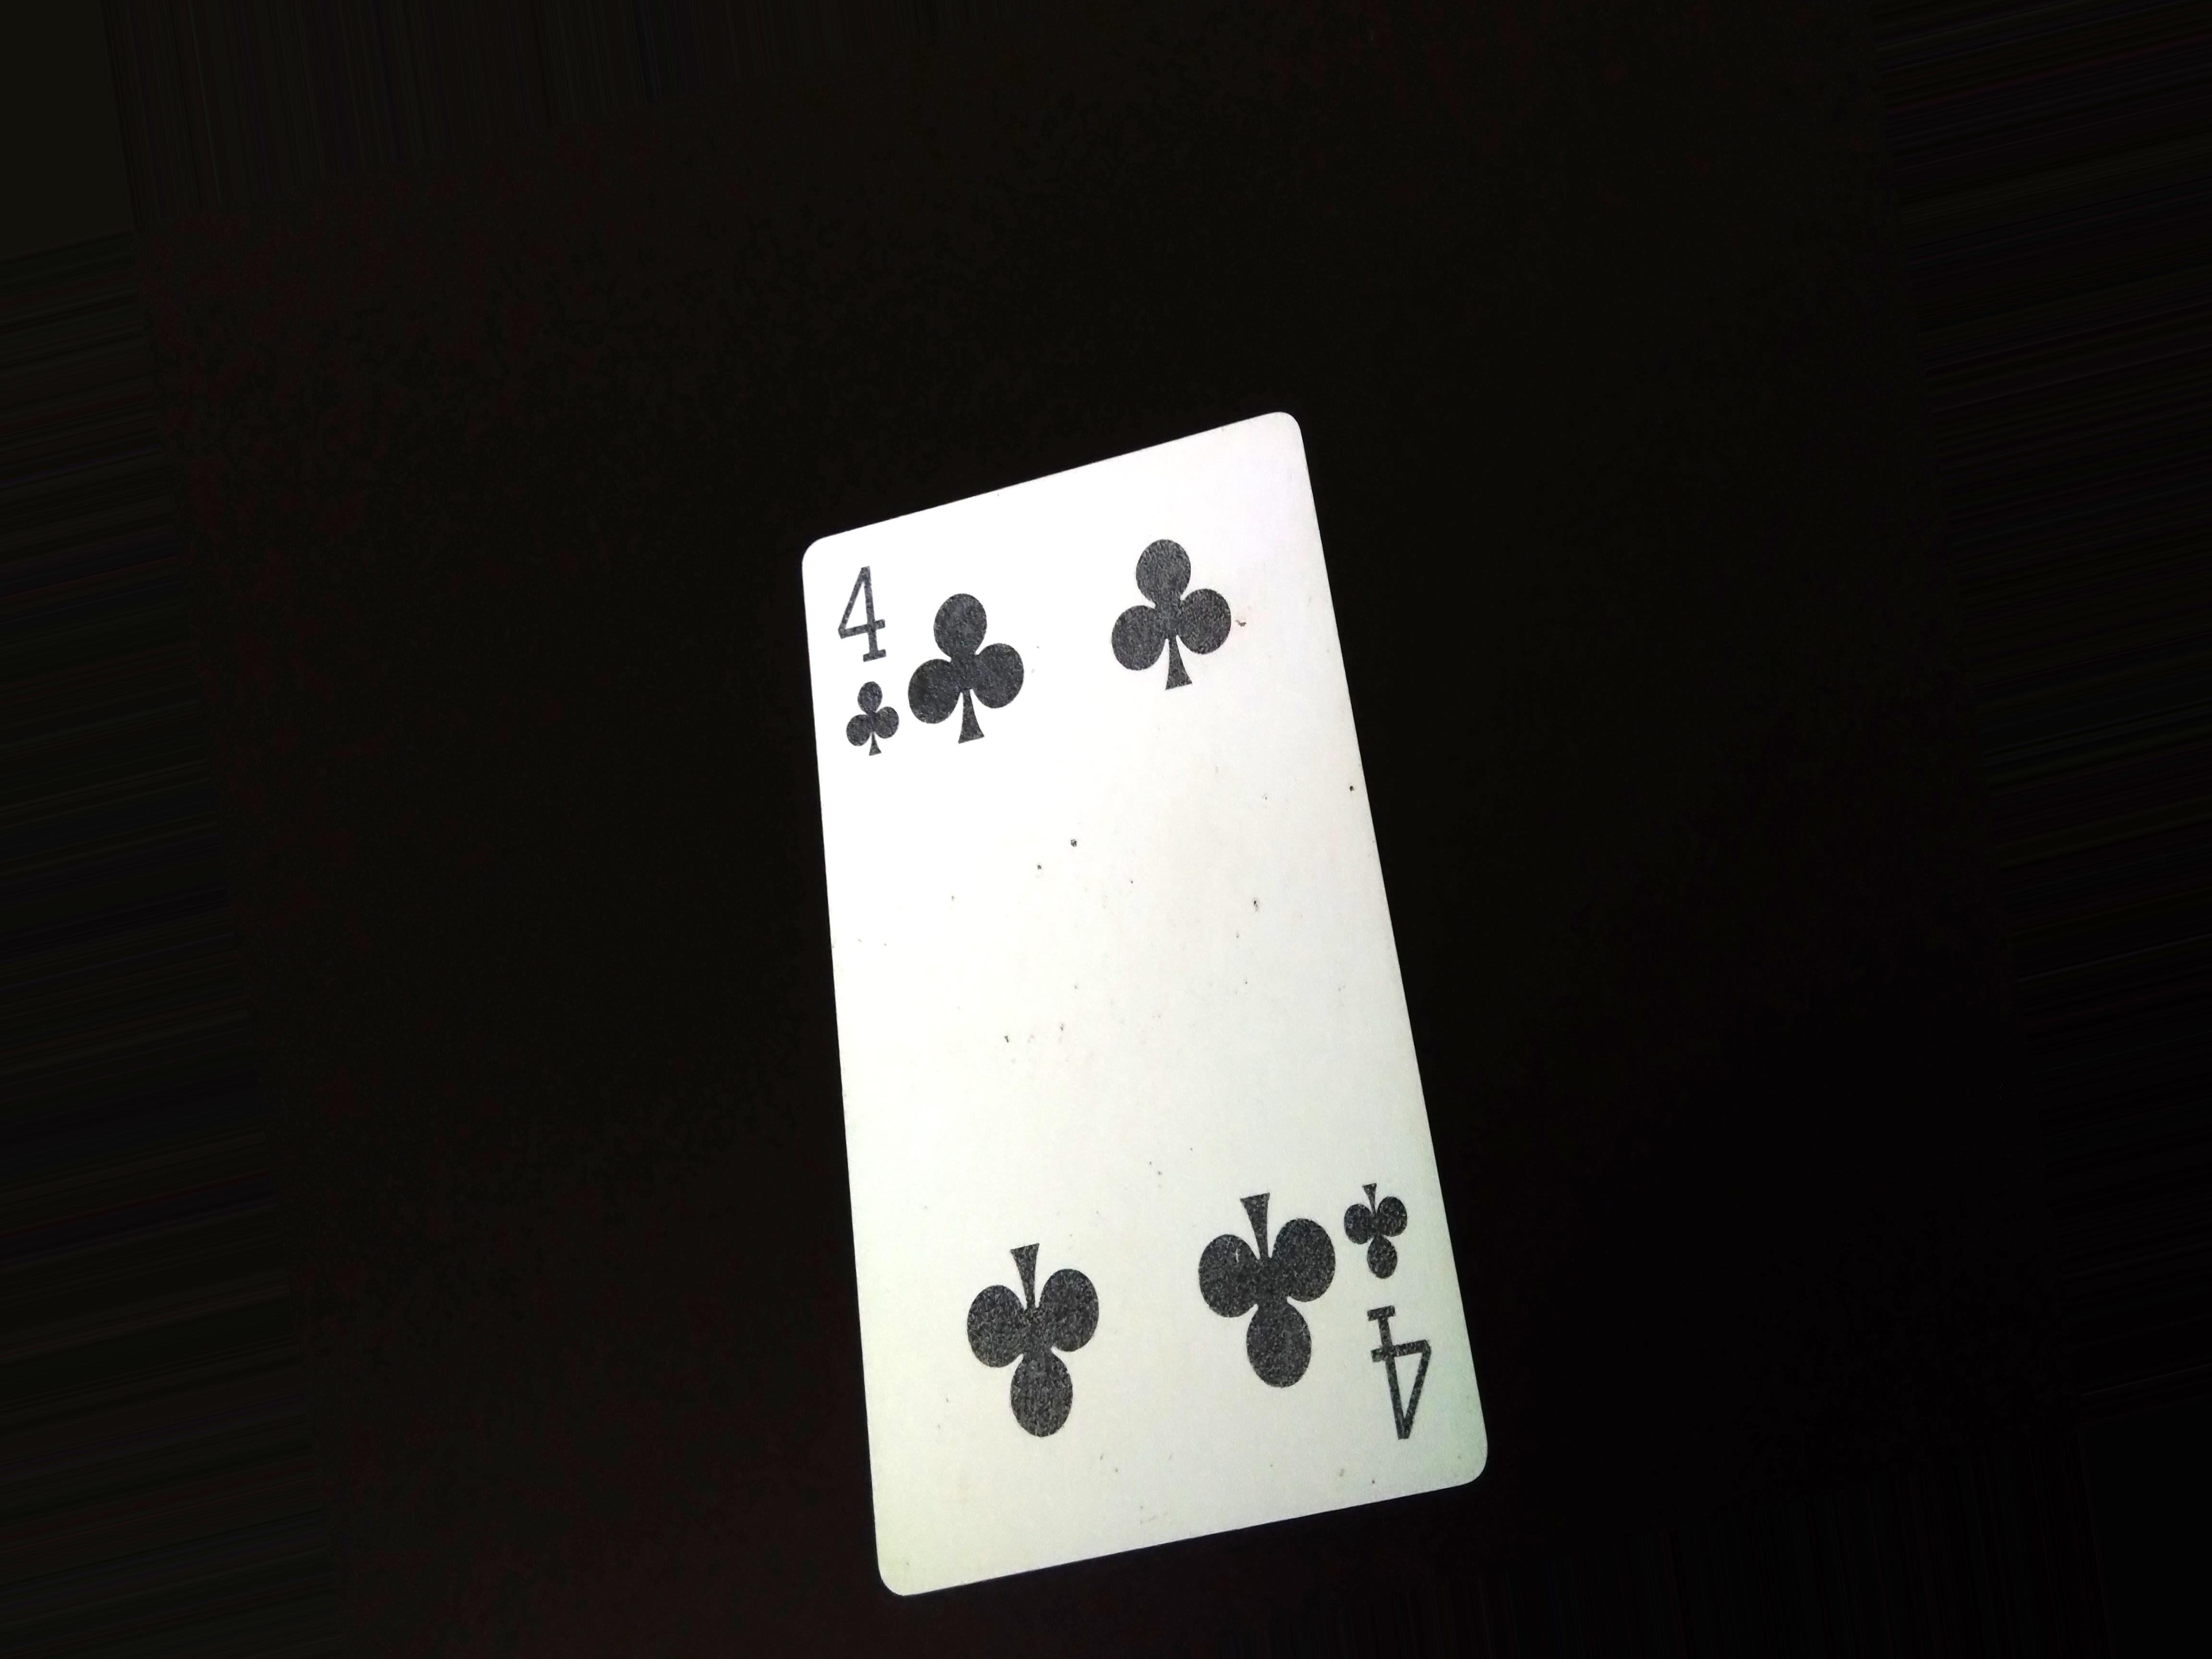4C: (831, 561, 911, 774)
